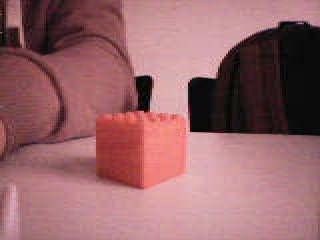legocube: (94, 110, 188, 192)
